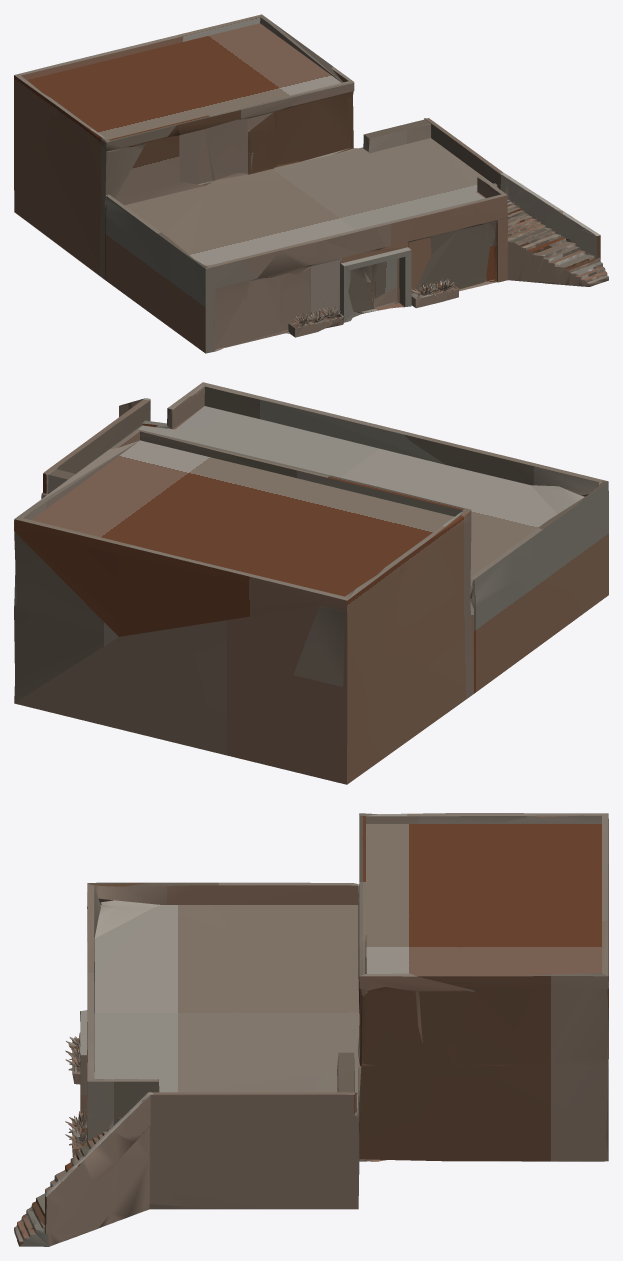
The model's file is gbank.glb.
3 renders of one model, top to bottom at view 1: azimuth 30°, elevation 25°; view 2: azimuth 150°, elevation 25°; view 3: azimuth 270°, elevation 25°, orthographic. The views are drawn at different scales.
Parts seen in each view (by area): view 1: LO; view 2: LO; view 3: LO.
Boxes of the visible parts, x1,y1,x2,y2 form: LO: [14, 14, 608, 353]; LO: [14, 382, 608, 784]; LO: [14, 813, 608, 1246].
Bounding box in the file's own units: 30 × 10.4 × 30.15.
1 material, 1 textured.
